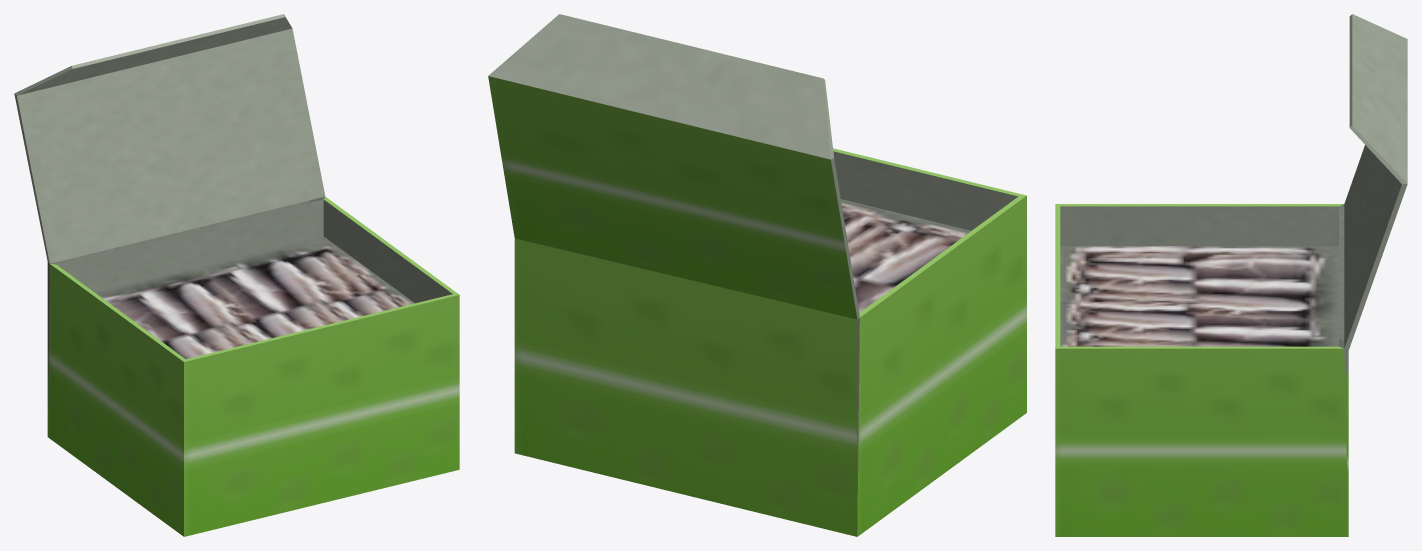
File: GenericBox.fbx
3 renders of one model, left to right at view 1: azimuth 30°, elevation 25°; view 2: azimuth 150°, elevation 25°; view 3: azimuth 270°, elevation 25°, orthographic. The views are drawn at different scales.
Parts seen in each view (by area): view 1: Box; view 2: Box; view 3: Box.
Boxes of the visible parts, x1,y1,x2,y2 form: Box: (14, 14, 459, 536); Box: (488, 14, 1026, 536); Box: (1055, 14, 1407, 536).
Size of the model in its own units: 27.03 by 33.36 by 27.21.
